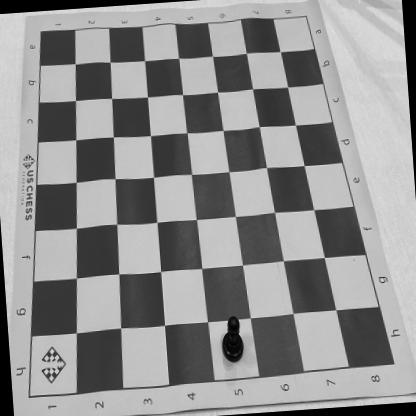pawn: (219, 315, 245, 364)
